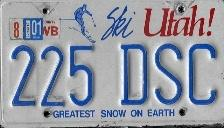2: (8, 42, 40, 108), (39, 43, 69, 108)
5: (68, 43, 98, 107)
C: (187, 41, 218, 107)
D: (119, 41, 150, 107)
S: (152, 41, 184, 105)
